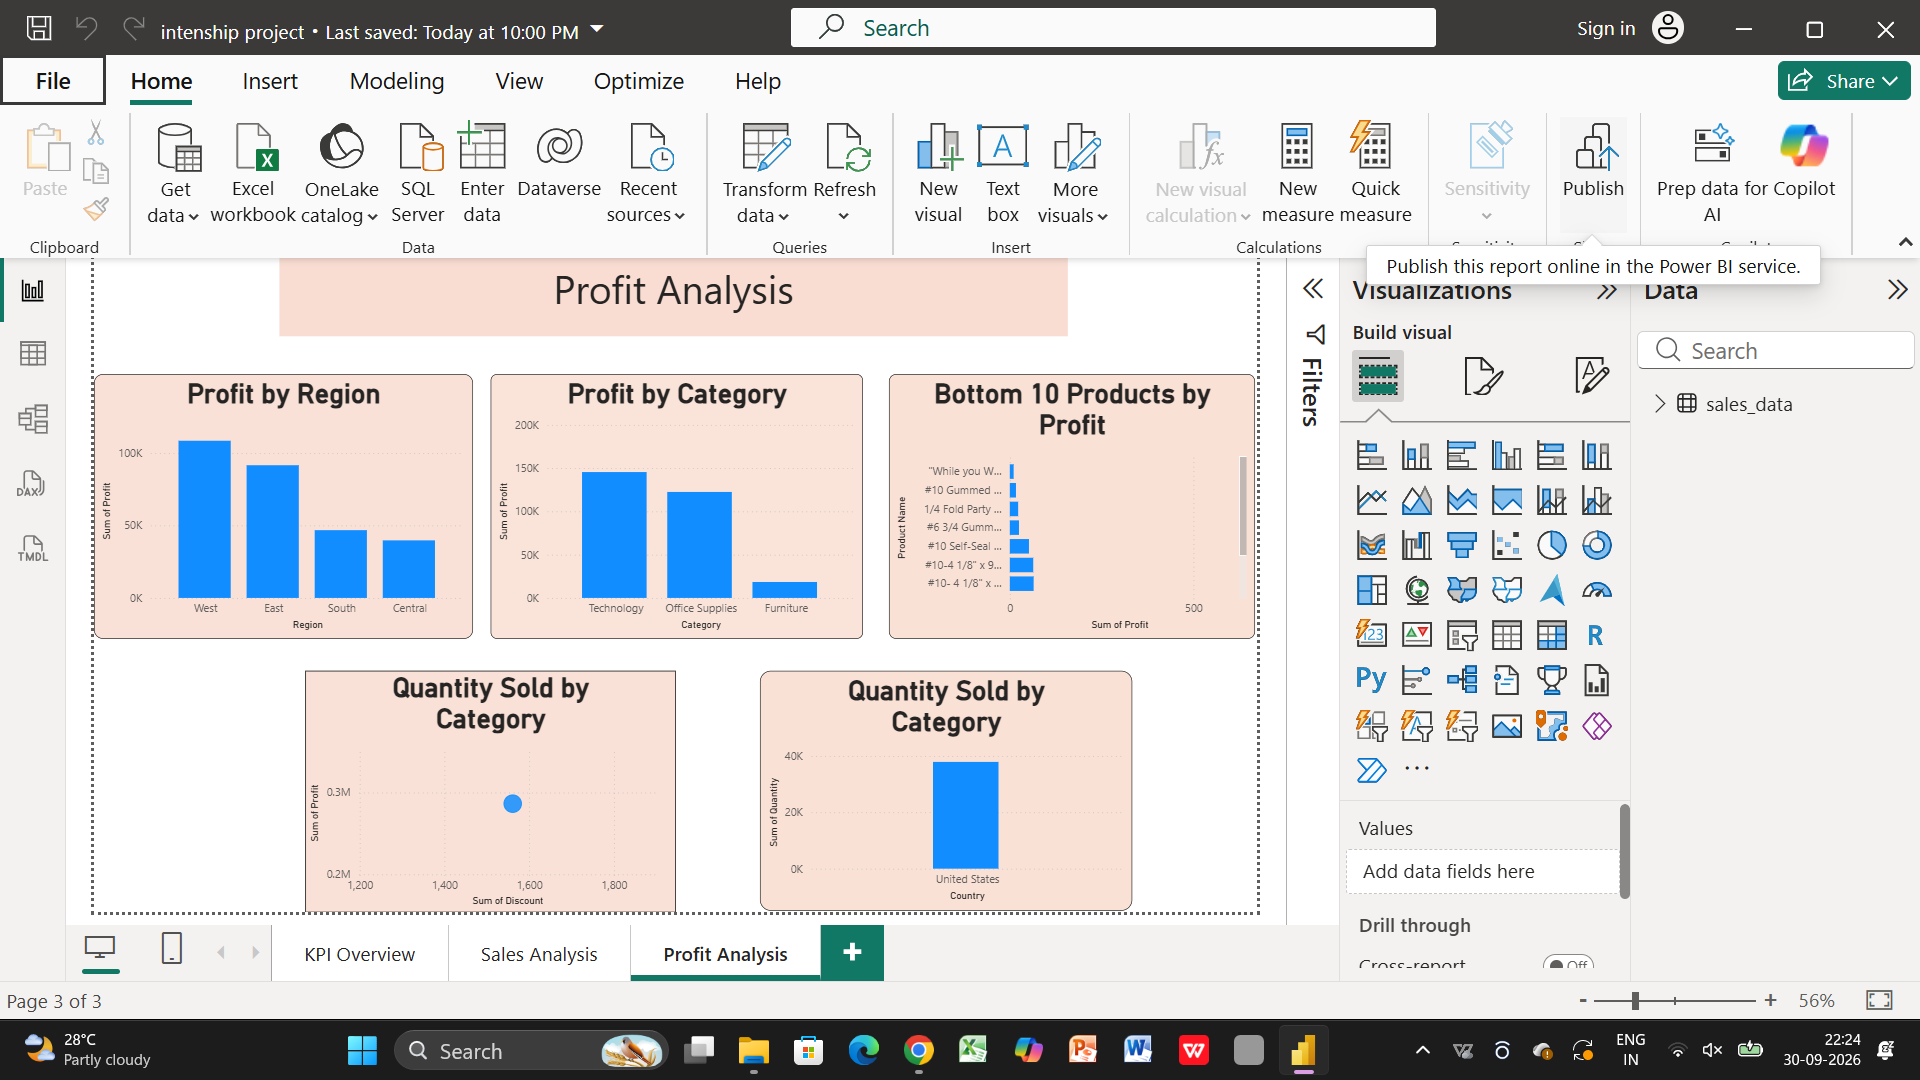

Layout of this report page (visuals, bound fields, positions):
{"tool":"powerbi","page":{"name":" Profit Analysis","canvas":[1280,720],"ordinal":2},"visuals":[{"type":"clusteredColumnChart","title":" Profit by Category","fields":{"Category":["sales_data.Category"],"Y":["Sum(sales_data.Profit)"]},"box":[436.8,127.8,410.2,291.2],"z":0},{"type":"clusteredColumnChart","title":"Profit by Region","fields":{"Category":["sales_data.Region"],"Y":["Sum(sales_data.Profit)"]},"box":[0,127.8,417.3,291.2],"z":1000},{"type":"scatterChart","title":"Quantity Sold by Category","fields":{"Size":["Sum(sales_data.Sales)"],"X":["Sum(sales_data.Discount)"],"Y":["Sum(sales_data.Profit)"]},"box":[232,454,408,266],"z":2000},{"type":"clusteredBarChart","title":"Bottom 10 Products by Profit","fields":{"Category":["sales_data.Product Name"],"Y":["Sum(sales_data.Profit)"]},"box":[875.4,127.8,403.1,291.2],"z":2001},{"type":"clusteredColumnChart","title":"Quantity Sold by Category","fields":{"Category":["sales_data.Country"],"Y":["Sum(sales_data.Quantity)"]},"box":[733.3,454.6,410,264],"z":2002},{"type":"textbox","box":[204,0,868,86],"z":2003}]}

Visuals, with their boxes on the page's 1280x720 design canvas (x1, y1, x2, y2). These are canvas units, not pixel positions in the 1920x1080 screenshot, which may show the page scaled, cropped or inside an application window:
" Profit by Category" clusteredColumnChart: [x1=437, y1=128, x2=847, y2=419]
"Profit by Region" clusteredColumnChart: [x1=0, y1=128, x2=417, y2=419]
"Quantity Sold by Category" scatterChart: [x1=232, y1=454, x2=640, y2=720]
"Bottom 10 Products by Profit" clusteredBarChart: [x1=875, y1=128, x2=1278, y2=419]
"Quantity Sold by Category" clusteredColumnChart: [x1=733, y1=455, x2=1143, y2=719]
textbox: [x1=204, y1=0, x2=1072, y2=86]
